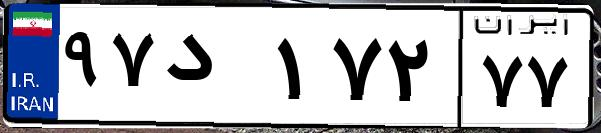1: (270, 28, 330, 110)
2: (385, 28, 445, 110)
7: (330, 28, 385, 110), (475, 38, 525, 113), (525, 38, 570, 115), (110, 28, 158, 98)
9: (57, 26, 110, 100)
د: (158, 20, 270, 120)
